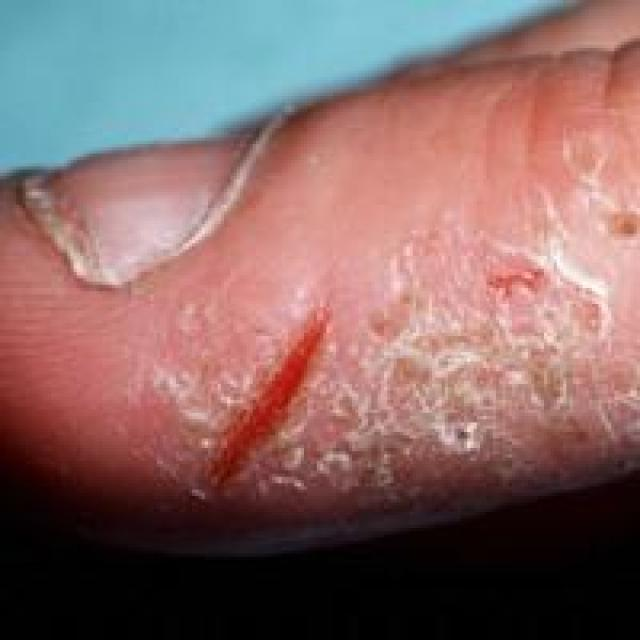Eczema: (122, 128, 612, 498)
